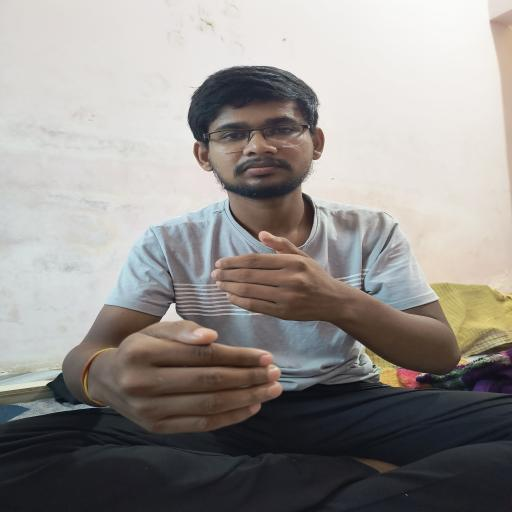Good: (94, 223, 374, 452)
